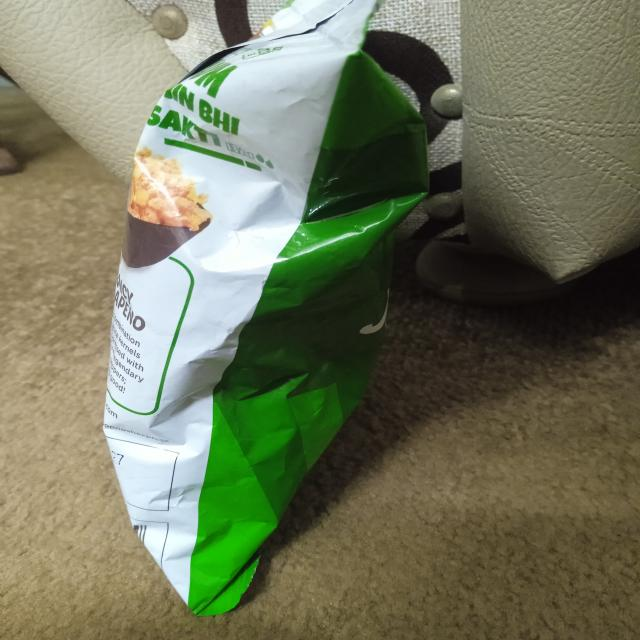Plastic: (97, 0, 456, 628)
